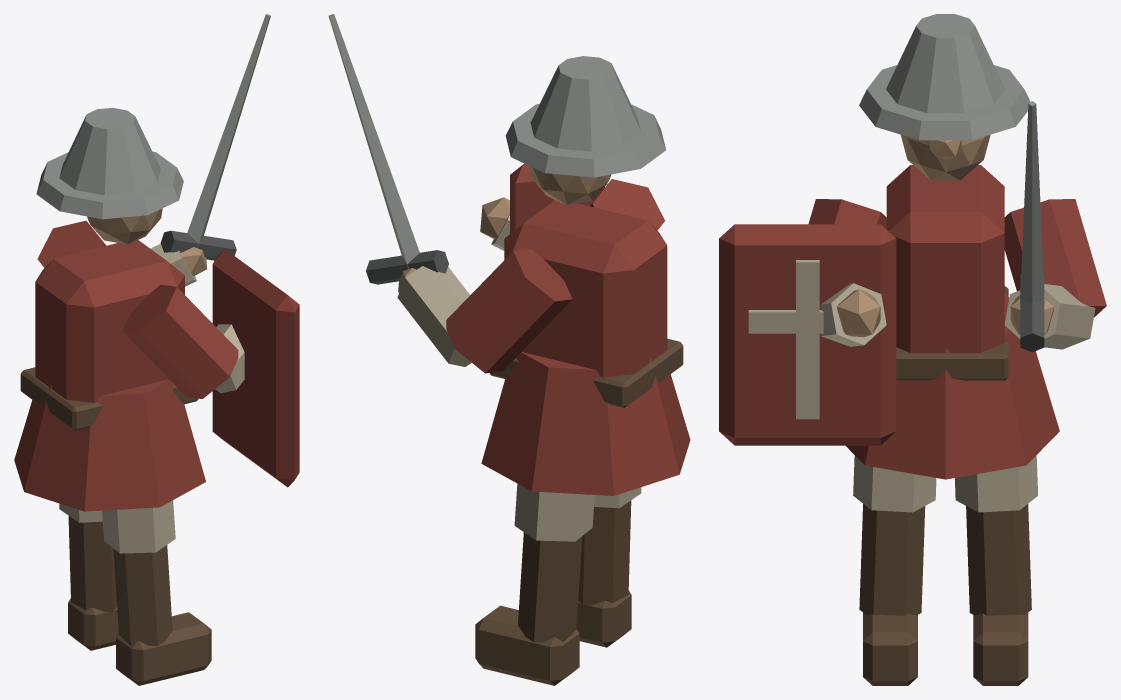
Rendered from infantry_shield_flat.glb.
3 views of the same model, side by side, from view 1: azimuth 30°, elevation 25°; view 2: azimuth 150°, elevation 25°; view 3: azimuth 270°, elevation 25° (orthographic). The views are drawn at different scales.
Visible parts, largest first — view 1: infantry_shield_flat; view 2: infantry_shield_flat; view 3: infantry_shield_flat.
Boxes of the visible parts, x1,y1,x2,y2 form: infantry_shield_flat: (14,14,299,685); infantry_shield_flat: (328,14,690,685); infantry_shield_flat: (719,14,1106,685).
Bounding box in the file's own units: 0.9594 × 1.84 × 0.9843.
